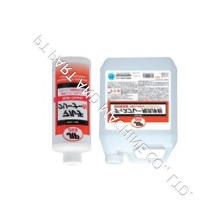cleaning_solution: (98, 54, 179, 166), (50, 54, 93, 167)
